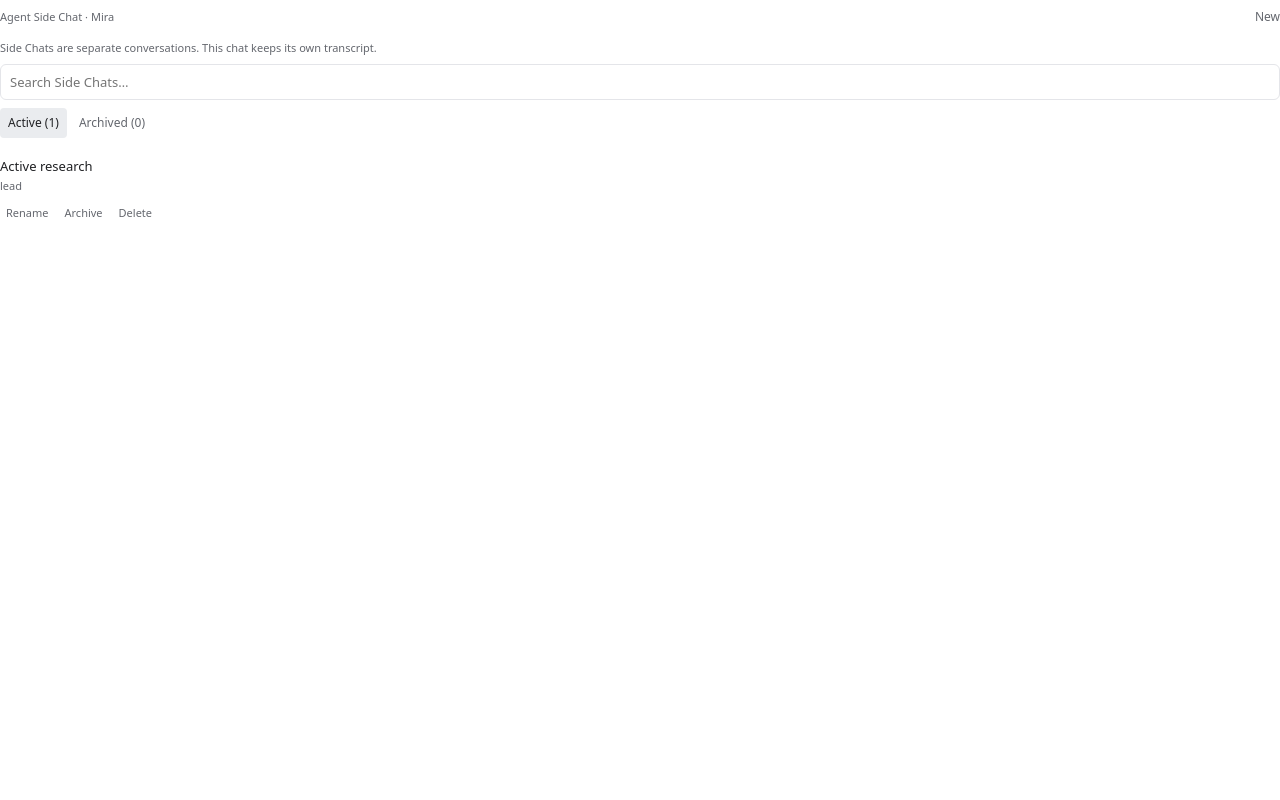
SideChatList › does not carry a rename editor into another owner's list
Click the button with aria-label "Rename Active research" at point(27, 213), box [0,199,54,227]
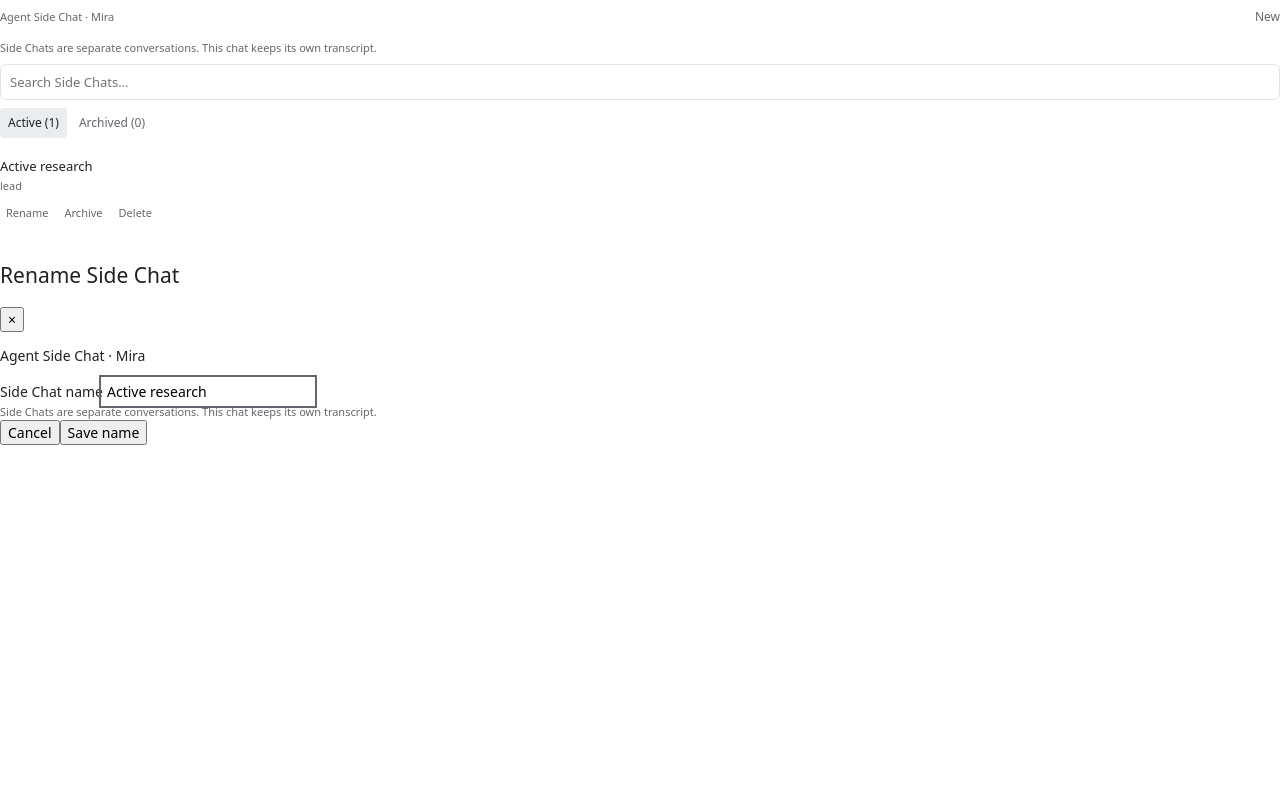
Expected: the dialog is shown, [0,261,377,445]
